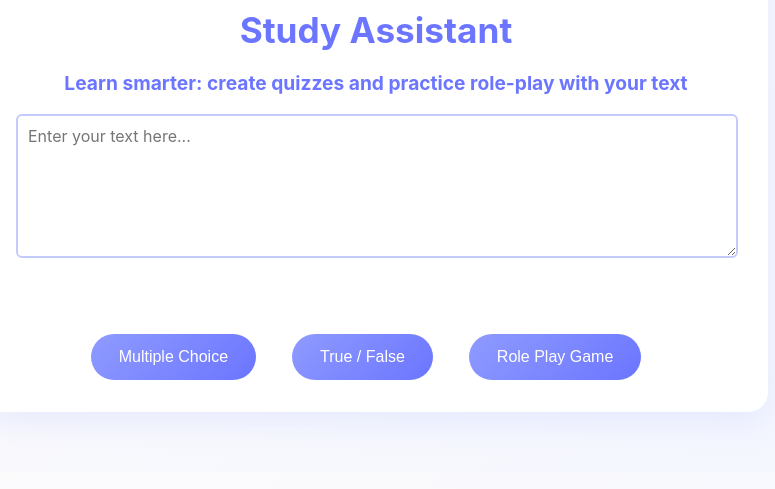
Test: HomePage Component › shows error if quiz button clicked with empty text
Click the button "Multiple Choice" at (173, 357), box left=91, top=334, right=256, bottom=380
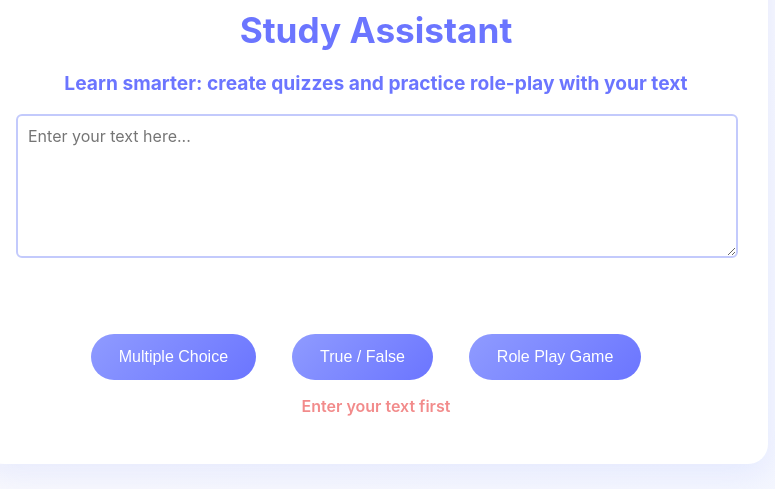
Now the text "Enter your text first" is shown, box left=302, top=396, right=450, bottom=416
